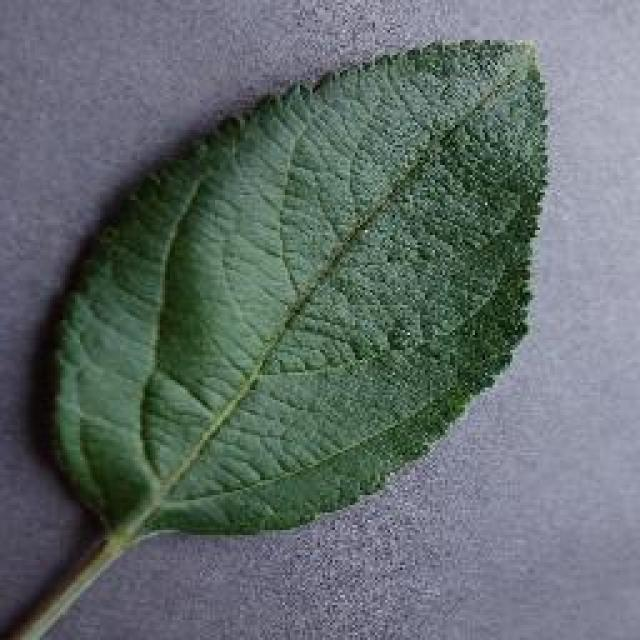apple healthy: (42, 33, 552, 545)
